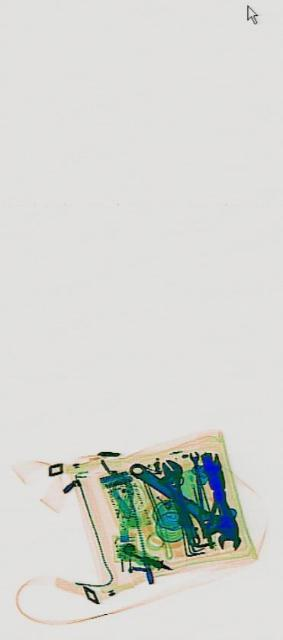Wrench: (126, 444, 239, 556), (157, 444, 202, 556), (206, 454, 237, 554), (187, 446, 205, 508)
